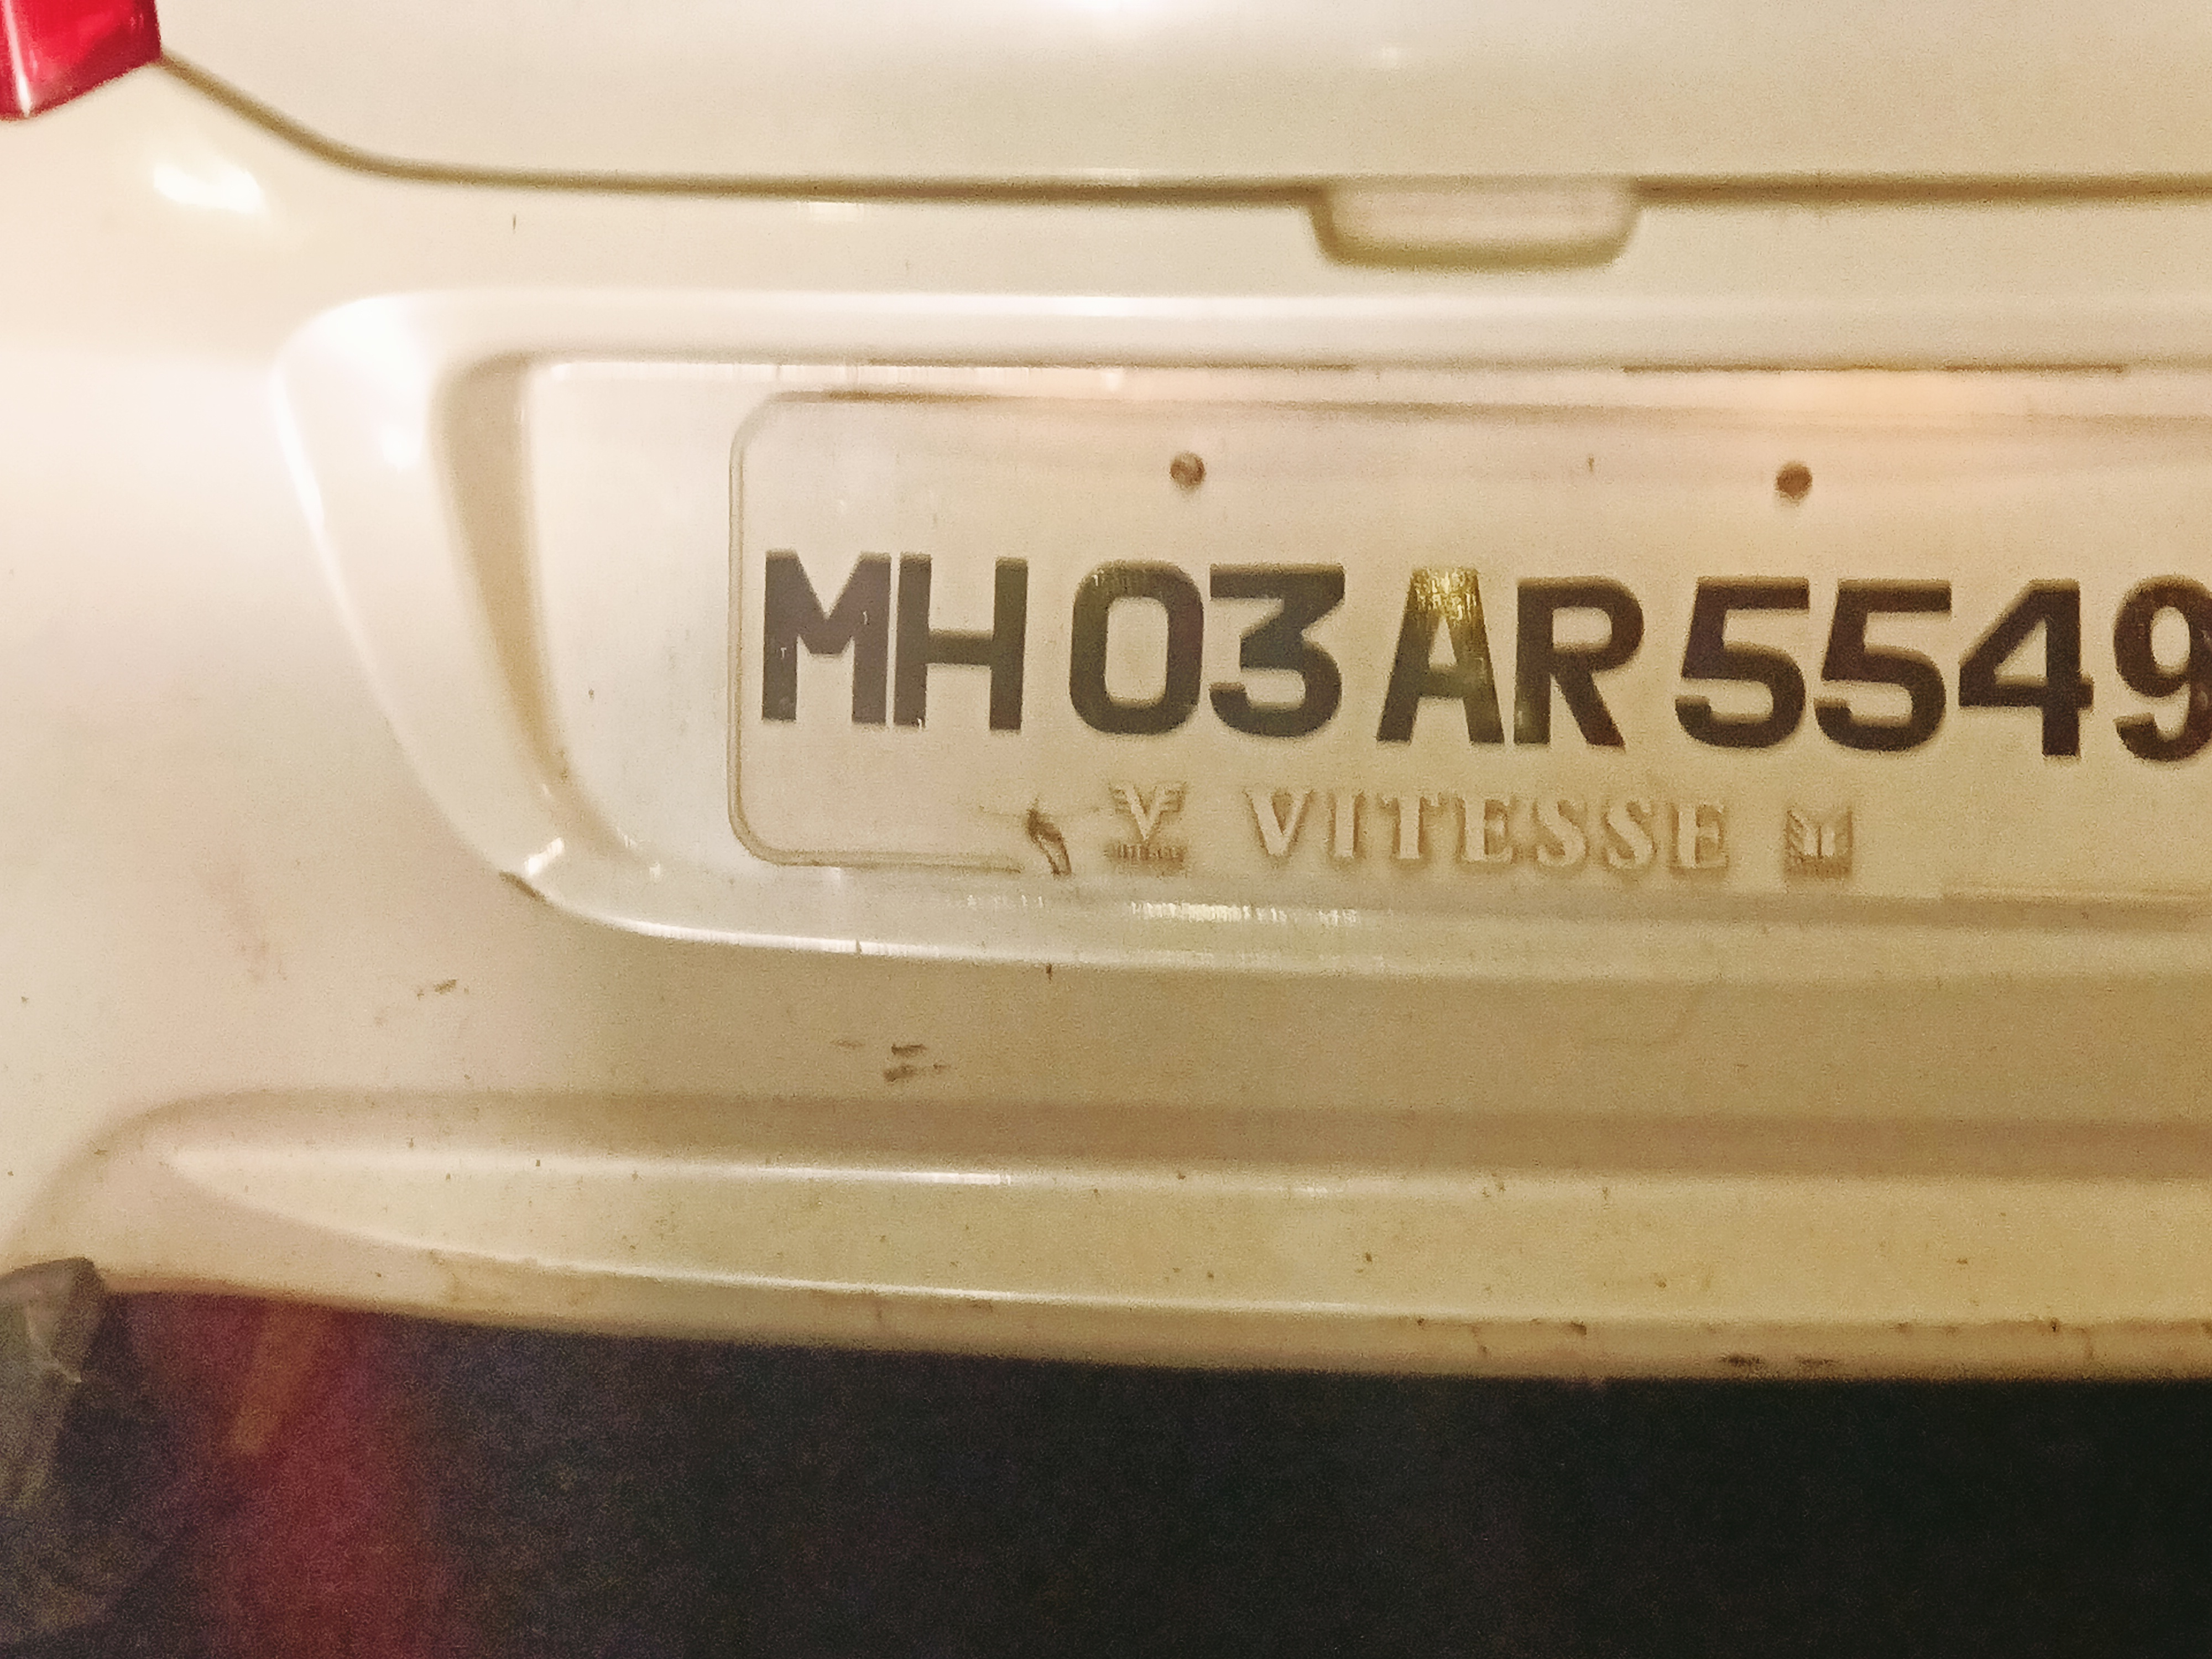MH03AR5549: (718, 394, 2212, 891)
